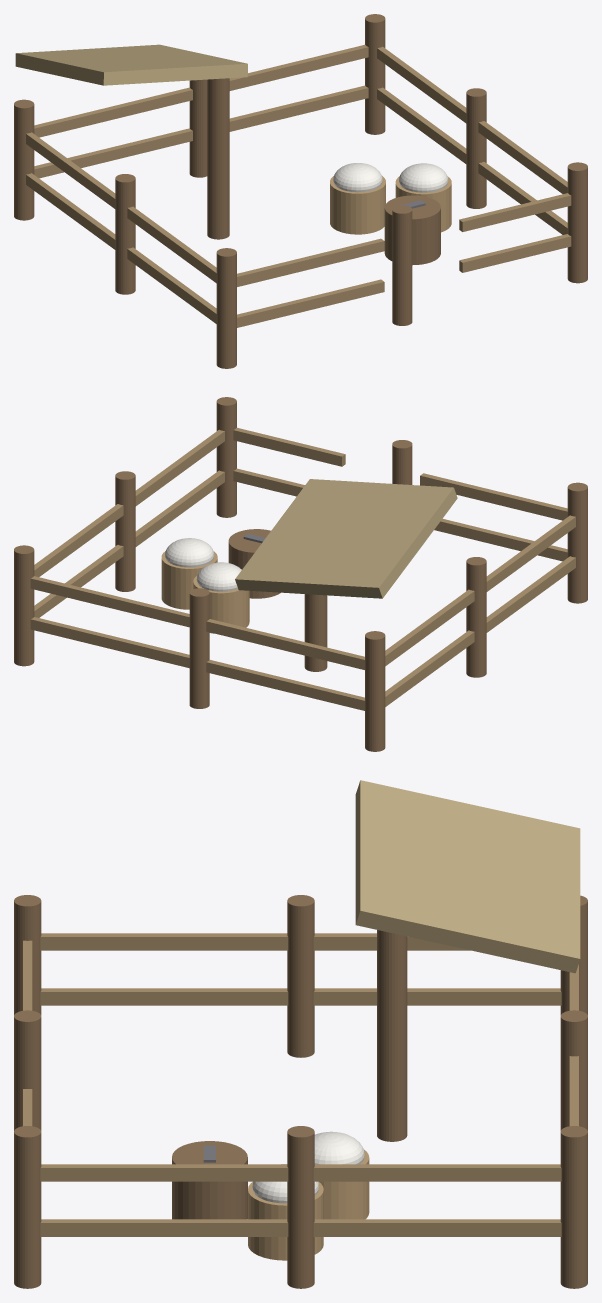
Rendered from sheep_pen.glb.
3 renders of one model, top to bottom at view 1: azimuth 30°, elevation 25°; view 2: azimuth 150°, elevation 25°; view 3: azimuth 270°, elevation 25°, orthographic. The views are drawn at different scales.
Visible parts, largest first — view 1: Cube.010, Cube.001, Cube, Cylinder.008, Cube.003, Cube.002, Cube.005, Cube.004, Cylinder.009, Cylinder.001, Cylinder, Cylinder.010 (+13 smaller); view 2: Cube.010, Cube.001, Cube, Cube.003, Cube.002, Cube.005, Cube.004, Cylinder.003, Cylinder.004, Cylinder.005, Cylinder.006, Cylinder.007 (+13 smaller); view 3: Cube.010, Cube.004, Cube.005, Cube.002, Cylinder.008, Cube.003, Cylinder.002, Cylinder.005, Cylinder.006, Cylinder.007, Cylinder.009, Cylinder.001 (+9 smaller).
Boxes of the visible parts, bbox=[...] form: Cube.010: bbox=[15, 44, 247, 85]; Cube.001: bbox=[34, 44, 368, 137]; Cube: bbox=[34, 85, 368, 178]; Cylinder.008: bbox=[207, 78, 229, 239]; Cube.003: bbox=[26, 132, 216, 283]; Cube.002: bbox=[26, 173, 216, 323]; Cube.005: bbox=[377, 46, 567, 193]; Cube.004: bbox=[377, 87, 567, 234]; Cylinder.009: bbox=[384, 195, 440, 265]; Cylinder.001: bbox=[392, 205, 412, 325]; Cylinder: bbox=[216, 248, 236, 368]; Cylinder.010: bbox=[330, 176, 385, 234]; Cube.010: bbox=[235, 479, 457, 598]; Cube.001: bbox=[30, 576, 364, 669]; Cube: bbox=[30, 617, 364, 710]; Cube.003: bbox=[385, 515, 575, 666]; Cube.002: bbox=[385, 556, 575, 706]; Cube.005: bbox=[34, 429, 224, 576]; Cube.004: bbox=[34, 470, 224, 617]; Cylinder.003: bbox=[365, 631, 385, 751]; Cylinder.004: bbox=[189, 588, 209, 708]; Cylinder.005: bbox=[14, 545, 34, 666]; Cylinder.006: bbox=[466, 557, 486, 677]; Cylinder.007: bbox=[115, 471, 135, 591]; Cube.010: bbox=[355, 780, 580, 973]; Cube.004: bbox=[40, 1219, 561, 1236]; Cube.005: bbox=[40, 1164, 561, 1181]; Cube.002: bbox=[40, 988, 561, 1005]; Cylinder.008: bbox=[377, 930, 407, 1141]; Cube.003: bbox=[40, 933, 470, 950]; Cylinder.002: bbox=[14, 1126, 41, 1288]; Cylinder.005: bbox=[560, 1126, 587, 1288]; Cylinder.006: bbox=[287, 895, 314, 1057]; Cylinder.007: bbox=[287, 1126, 314, 1288]; Cylinder.009: bbox=[172, 1141, 247, 1219]; Cylinder.001: bbox=[14, 1010, 41, 1130].
Size of the model in its own units: 3.78 by 1.98 by 3.78.
